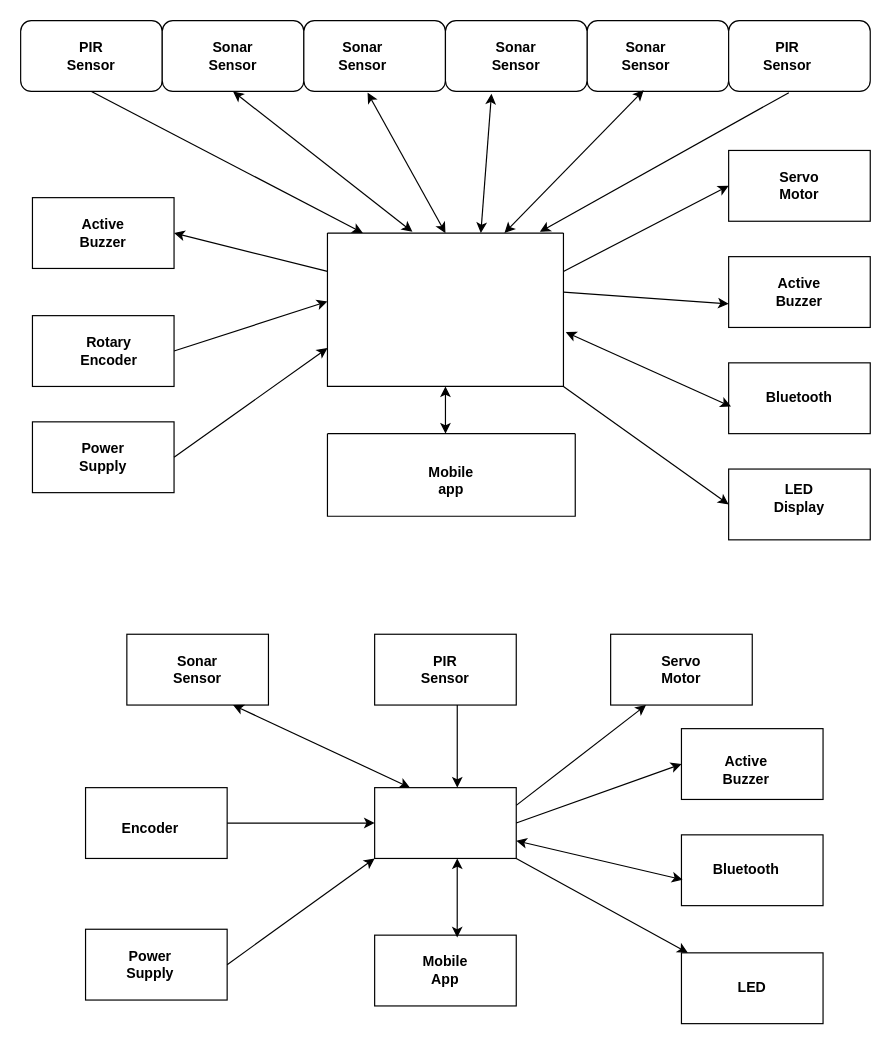
This 891x1044 diagram has some shape labels left out. Each missing label, with the centre of its shape:
Arduino Mega 2560 R3: the point at 444,309
Microcontroller: the point at 444,822
